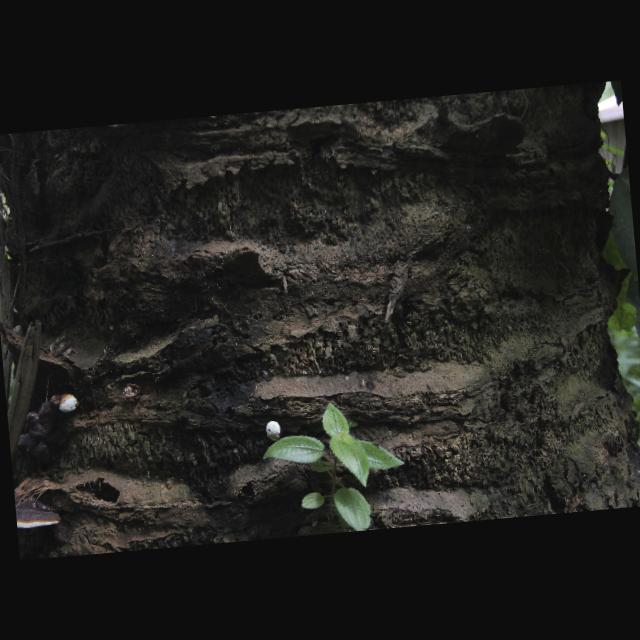ganoderma: (12, 395, 64, 466), (16, 494, 64, 531)
primordium: (58, 393, 81, 415), (265, 421, 282, 443)
